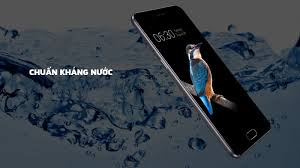bphone: (128, 2, 273, 158)
